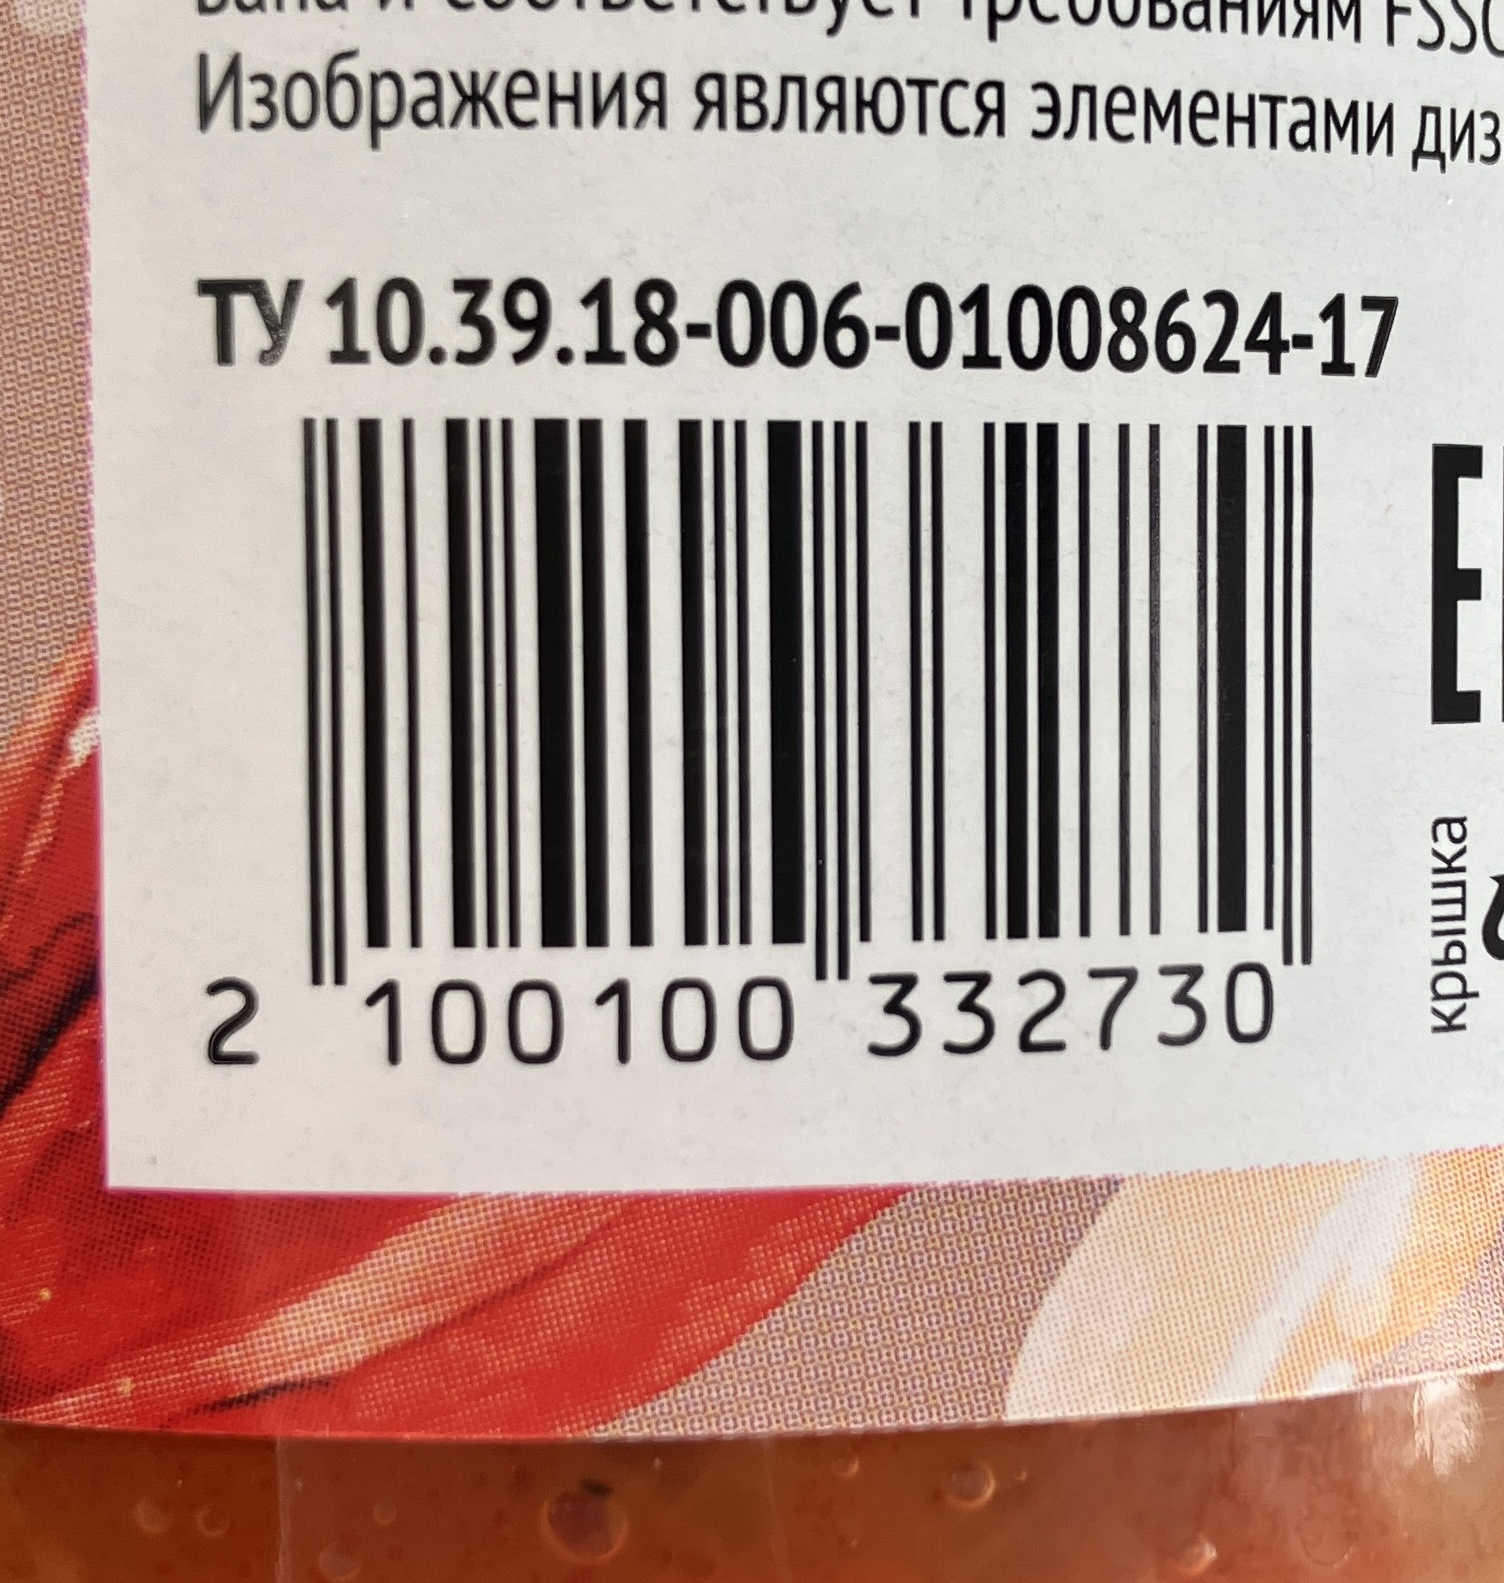1d: (301, 420, 1310, 987)
